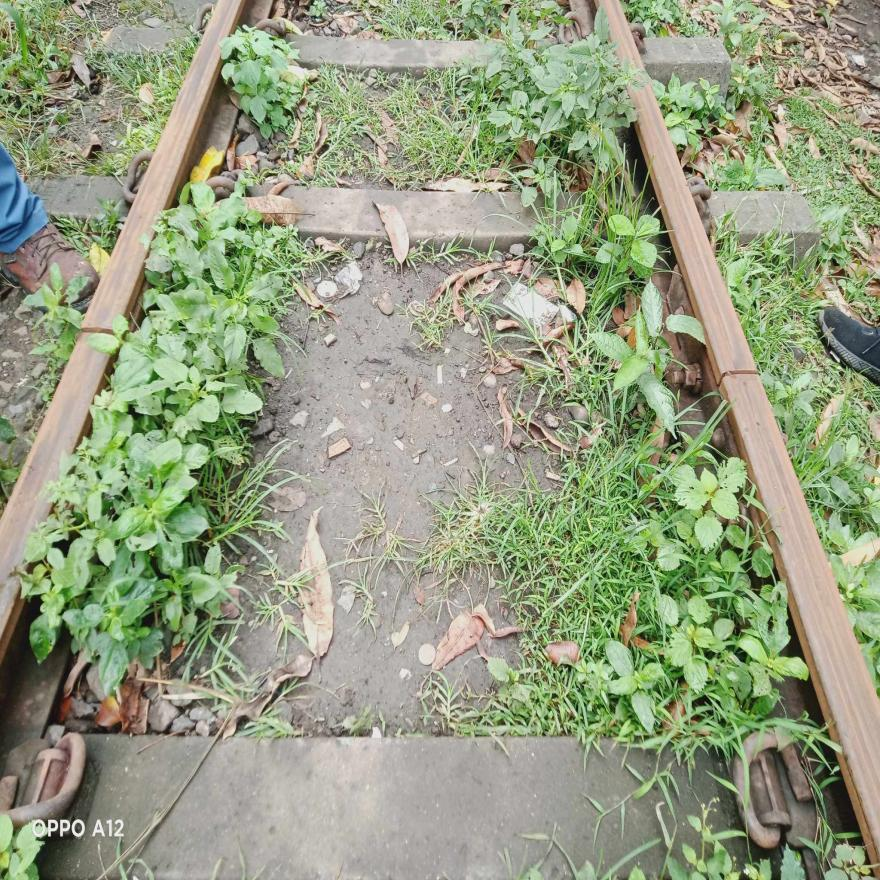railway-gap: (66, 287, 128, 376), (704, 332, 771, 412)
